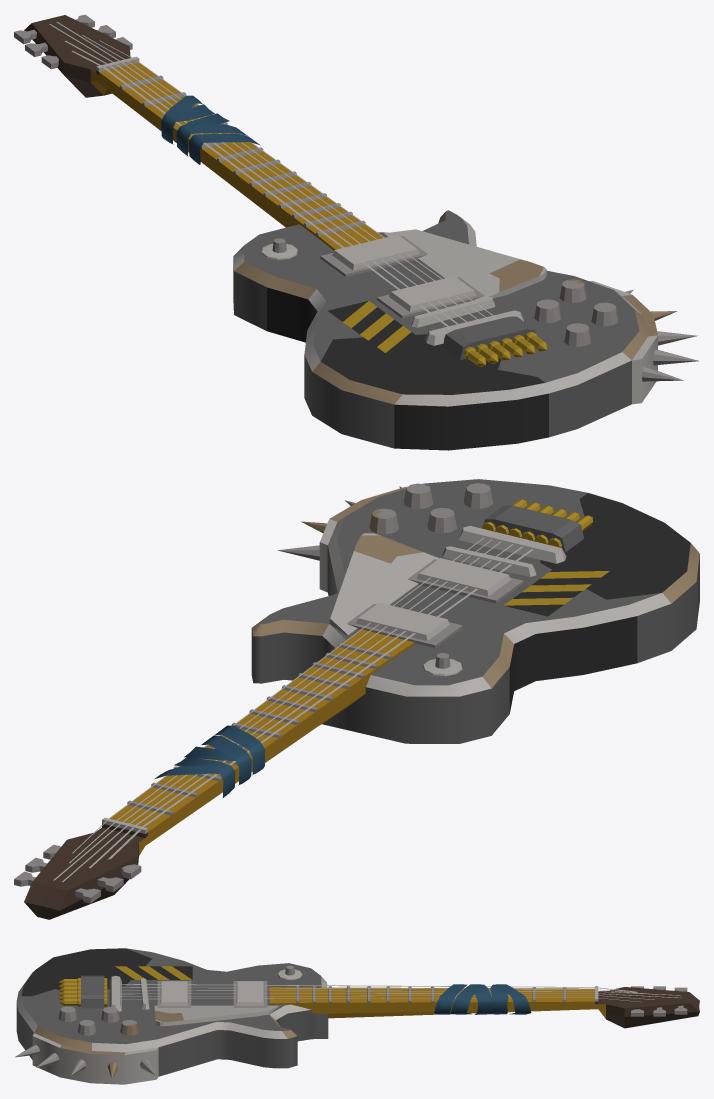
The model's file is guitar.glb.
The picture shows the model from 3 angles, top to bottom: view 1: azimuth 30°, elevation 25°; view 2: azimuth 150°, elevation 25°; view 3: azimuth 270°, elevation 25°; orthographic projection. The views are drawn at different scales.
Parts seen in each view (by area): view 1: Guitar; view 2: Guitar; view 3: Guitar.
Part boxes in pixels (x1,y1,x2,y2): Guitar: (14, 14, 698, 450); Guitar: (14, 479, 699, 919); Guitar: (15, 948, 699, 1084).
Bounding box in the file's own units: 0.8023 × 0.1436 × 2.
Materials: 1 (1 with a texture image).
